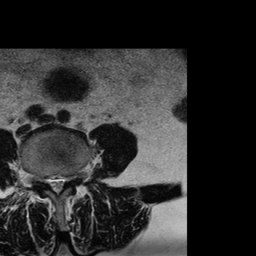CCS_normal: (53, 170, 60, 199)
LFS_stenosis: (67, 168, 74, 187)
LLS_stenosis: (60, 170, 67, 192)
RFS_stenosis: (38, 169, 46, 189)
RLS_stenosis: (46, 169, 53, 194)
